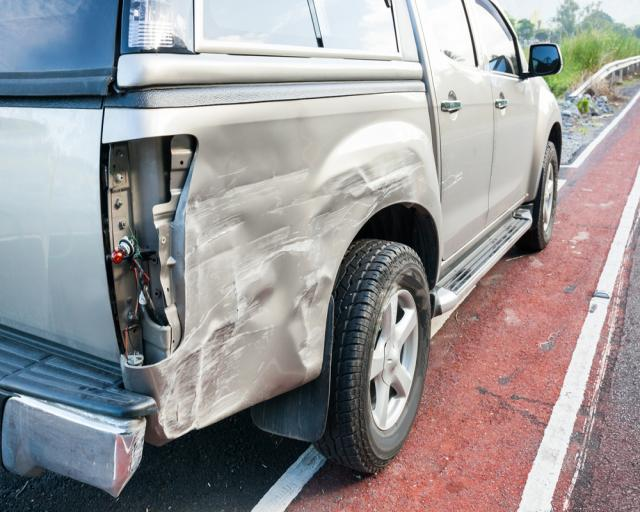dent: (152, 109, 427, 438)
